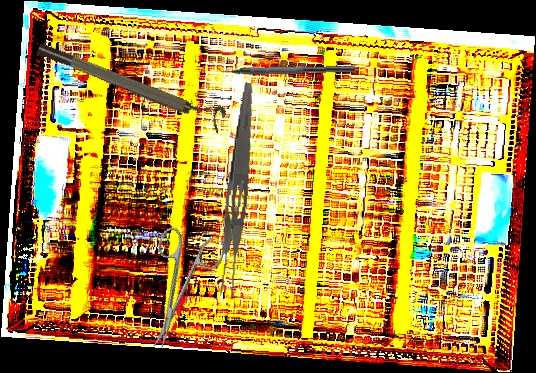Chopper: (210, 55, 356, 78)
Dressing Forceps: (215, 81, 258, 298)
Fixation Ring: (35, 31, 228, 135)
Iris Scissors: (125, 221, 228, 358)
